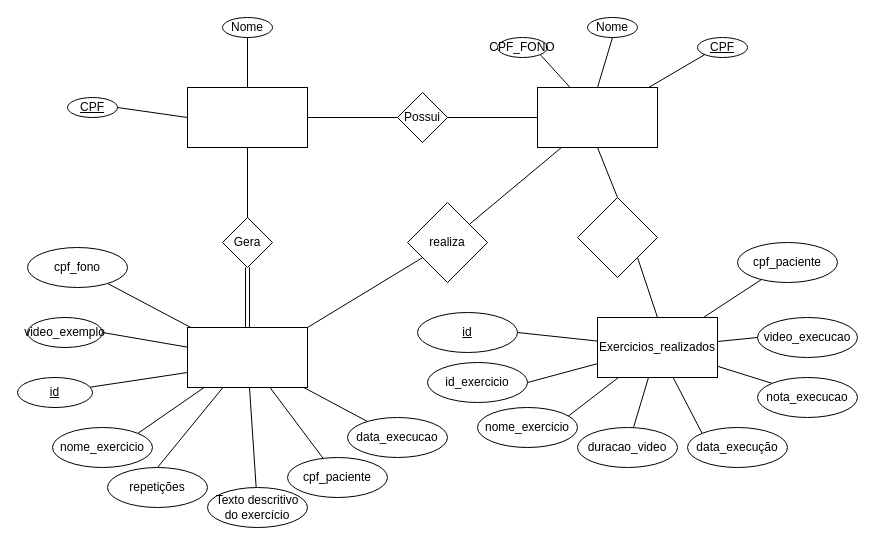
Some shapes in this 875 by 545 pixel diagram are drawn without their labels. The shapes that lost their labels are listed below. From the top down, each one's box as (x1, y1, x2, y2) in pixels, then its label:
(186, 86, 308, 148): Fono
(536, 86, 658, 148): Paciente
(576, 196, 658, 278): tem
(186, 326, 308, 388): Exercícios
